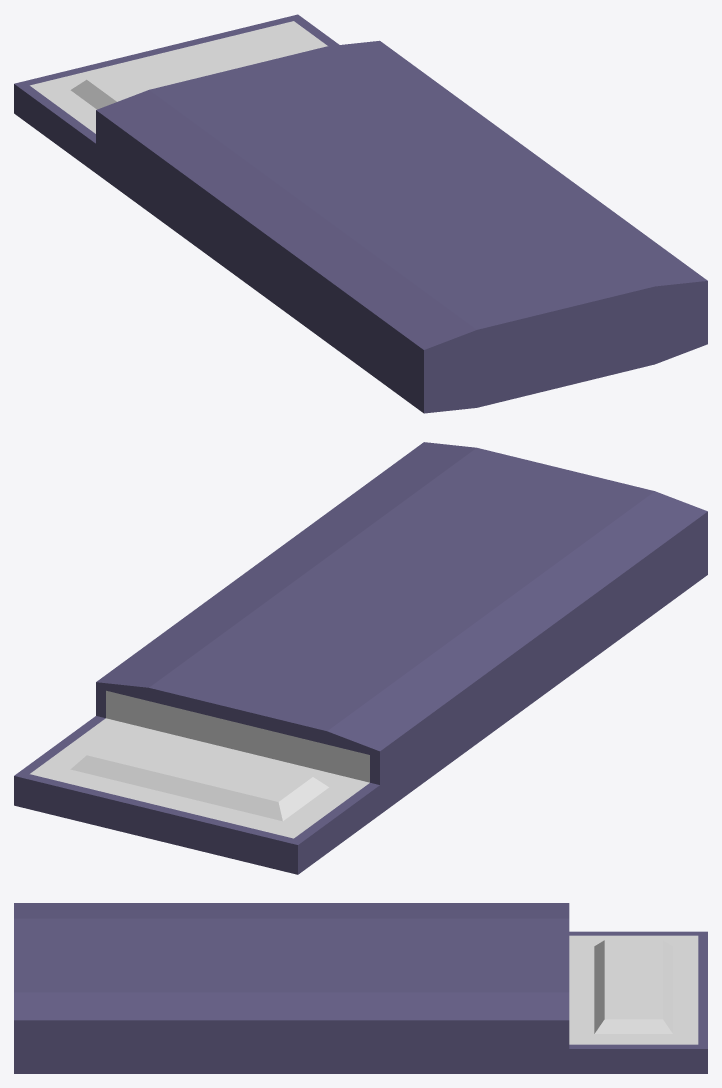
The model's file is Спальный мешок.fbx.
3 views of the same model, one above another, from view 1: azimuth 30°, elevation 25°; view 2: azimuth 150°, elevation 25°; view 3: azimuth 270°, elevation 25° (orthographic). The views are drawn at different scales.
Visible parts, largest first — view 1: Cube; view 2: Cube; view 3: Cube.
Boxes of the visible parts, x1,y1,x2,y2 form: Cube: (14, 14, 707, 413); Cube: (14, 442, 707, 874); Cube: (14, 903, 707, 1073).
Size of the model in its own units: 200 by 52.47 by 500.
